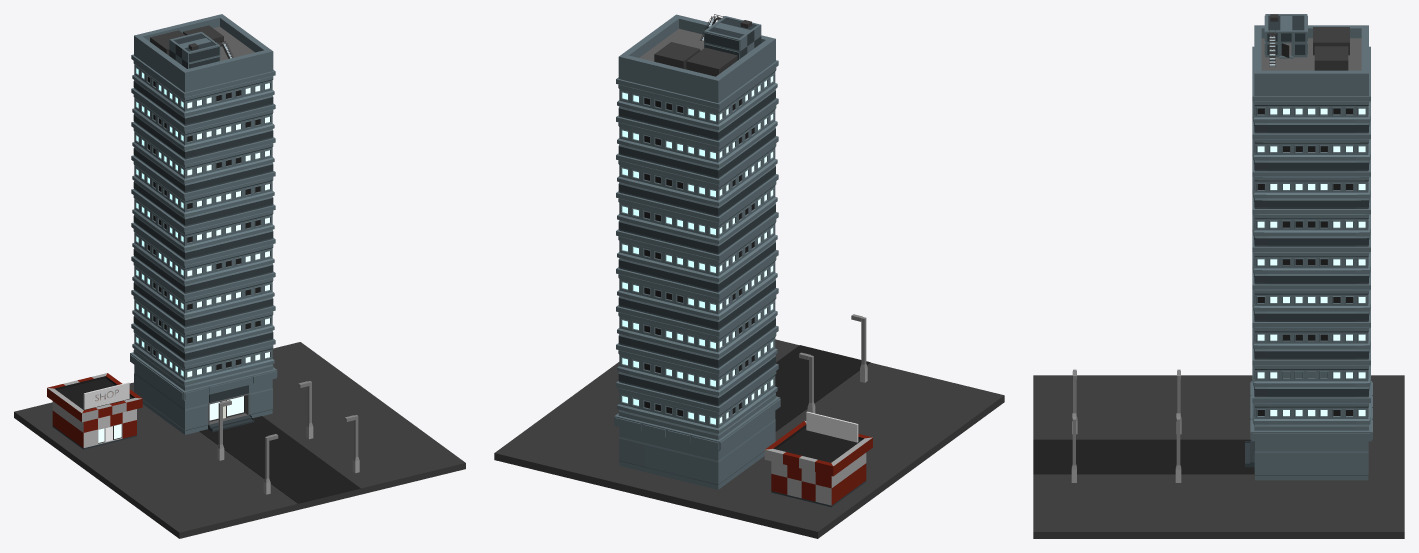
Rendered from building.glb.
3 views of the same model, side by side, from view 1: azimuth 30°, elevation 25°; view 2: azimuth 150°, elevation 25°; view 3: azimuth 270°, elevation 25° (orthographic). The views are drawn at different scales.
Parts seen in each view (by area): view 1: Plane, Plane.003, Plane.005, Plane.007, Plane.014; view 2: Plane, Plane.003, Plane.005, Plane.014, Plane.007; view 3: Plane.003, Plane, Plane.005, Plane.007.
Part boxes in pixels (left/top/right/bottom): Plane: left=131, top=54, right=275, bottom=390; Plane.003: left=14, top=342, right=465, bottom=538; Plane.005: left=130, top=14, right=277, bottom=434; Plane.007: left=199, top=416, right=360, bottom=503; Plane.014: left=47, top=373, right=142, bottom=449; Plane: left=616, top=60, right=778, bottom=439; Plane.003: left=494, top=339, right=1004, bottom=538; Plane.005: left=614, top=14, right=780, bottom=489; Plane.014: left=764, top=411, right=872, bottom=507; Plane.007: left=775, top=345, right=870, bottom=431; Plane.003: left=1033, top=375, right=1404, bottom=538; Plane: left=1252, top=46, right=1370, bottom=430; Plane.005: left=1245, top=14, right=1372, bottom=480; Plane.007: left=1033, top=439, right=1254, bottom=474.
Bounding box in the file's own units: 6.53 × 8.41 × 6.53.
3 materials, 1 textured.
